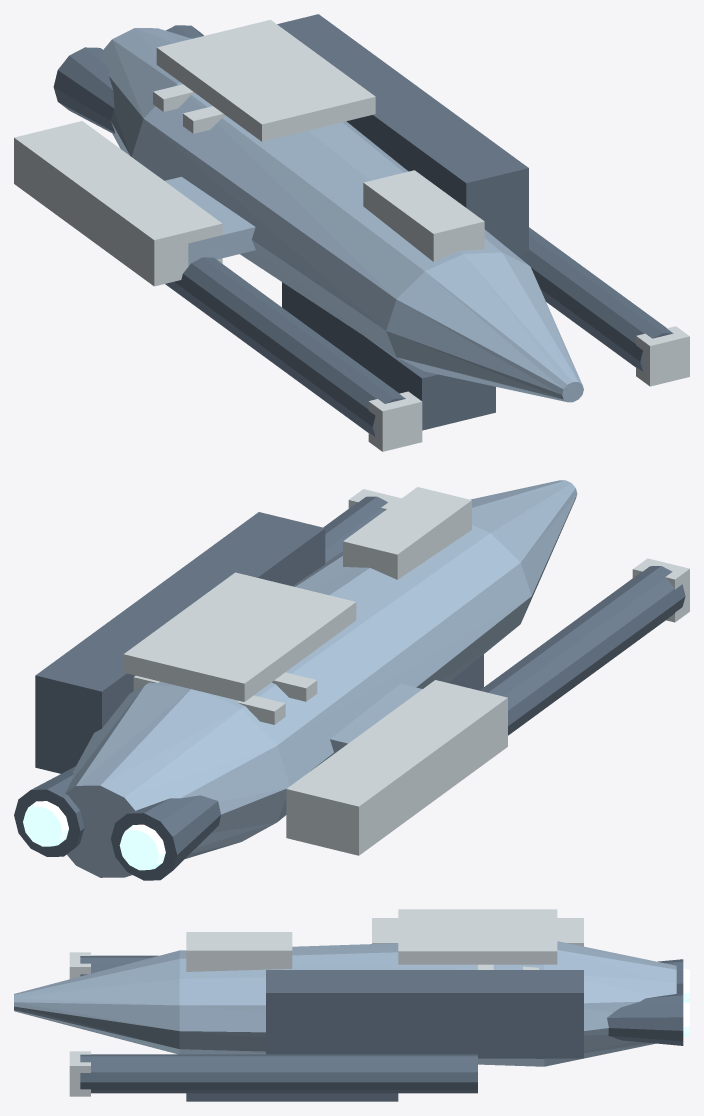
3 views of the same model, one above another, from view 1: azimuth 30°, elevation 25°; view 2: azimuth 150°, elevation 25°; view 3: azimuth 270°, elevation 25° (orthographic). The views are drawn at different scales.
Bounding box in the file's own units: 2.5 × 1.47 × 5.71.
